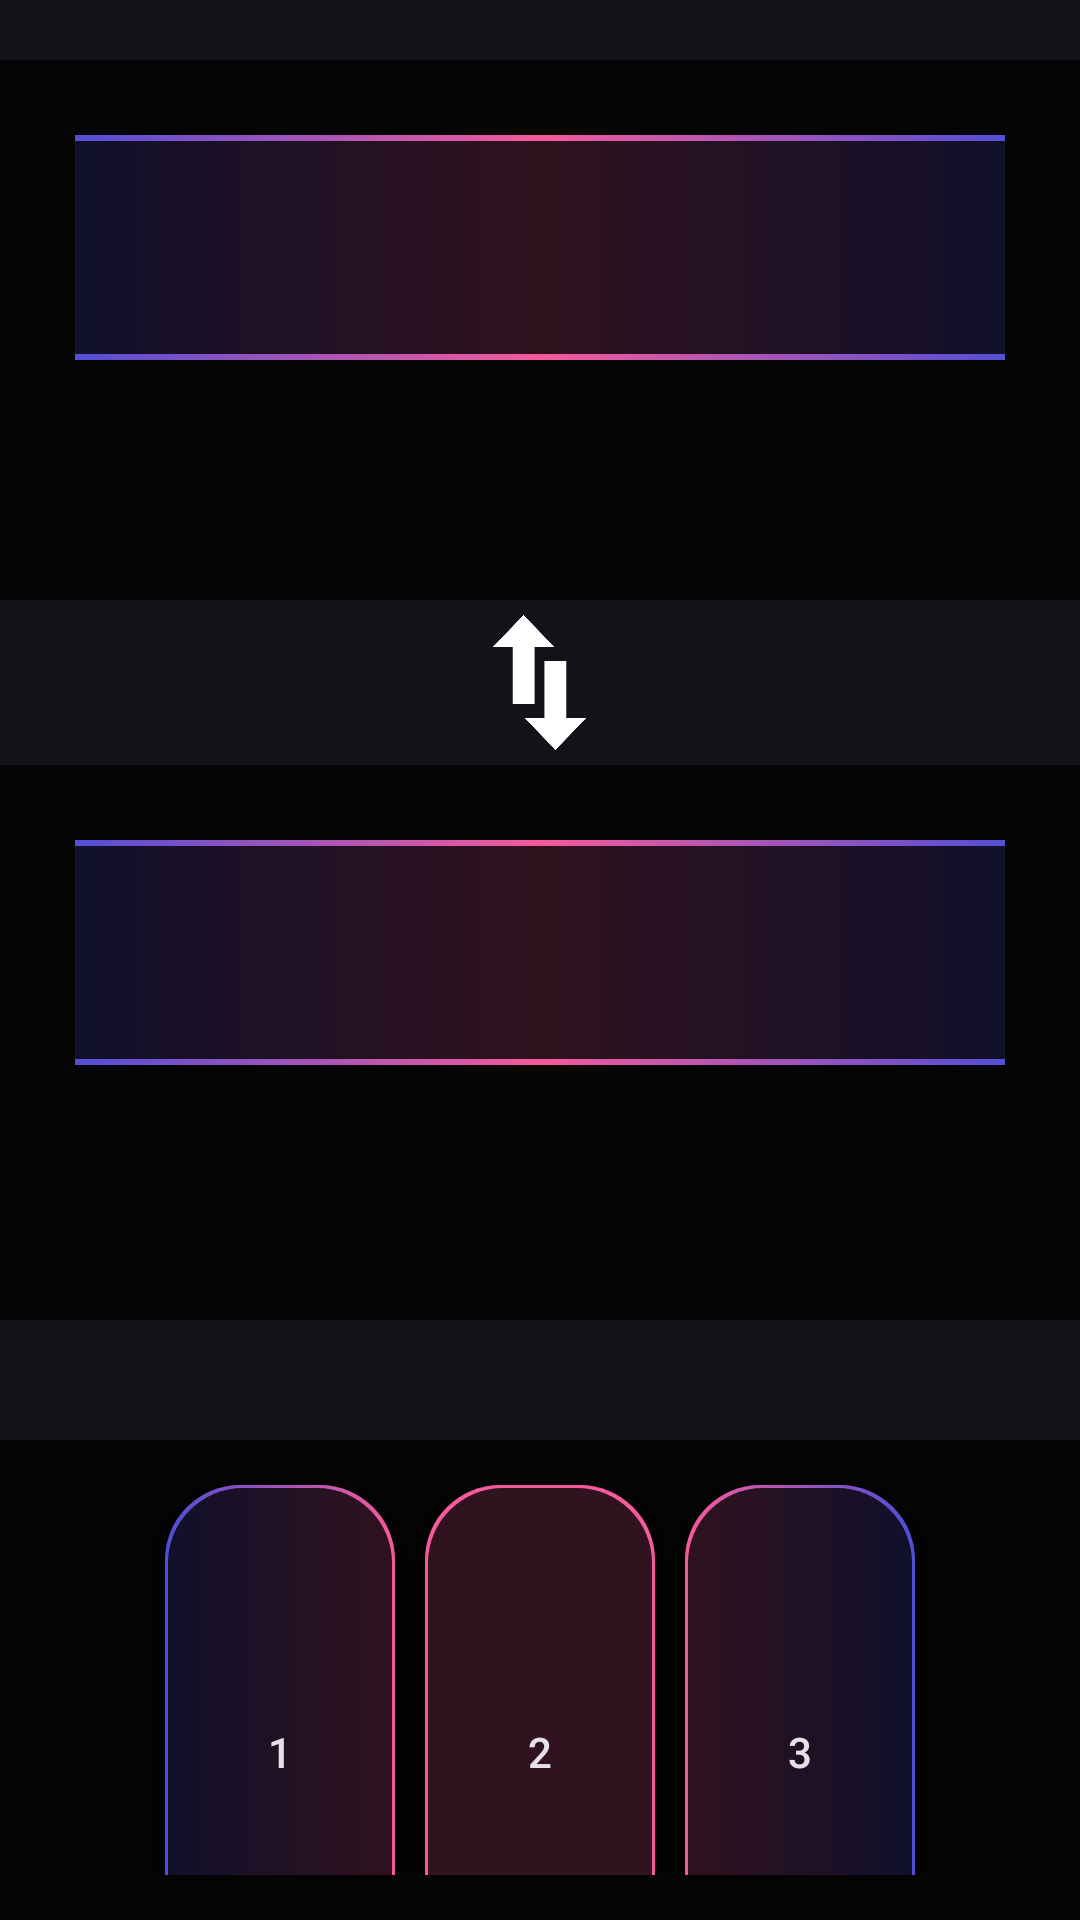

Named icons in this screenshot (1080 x 1920) and their centers, point (x, y):
switch: point (539, 682)
